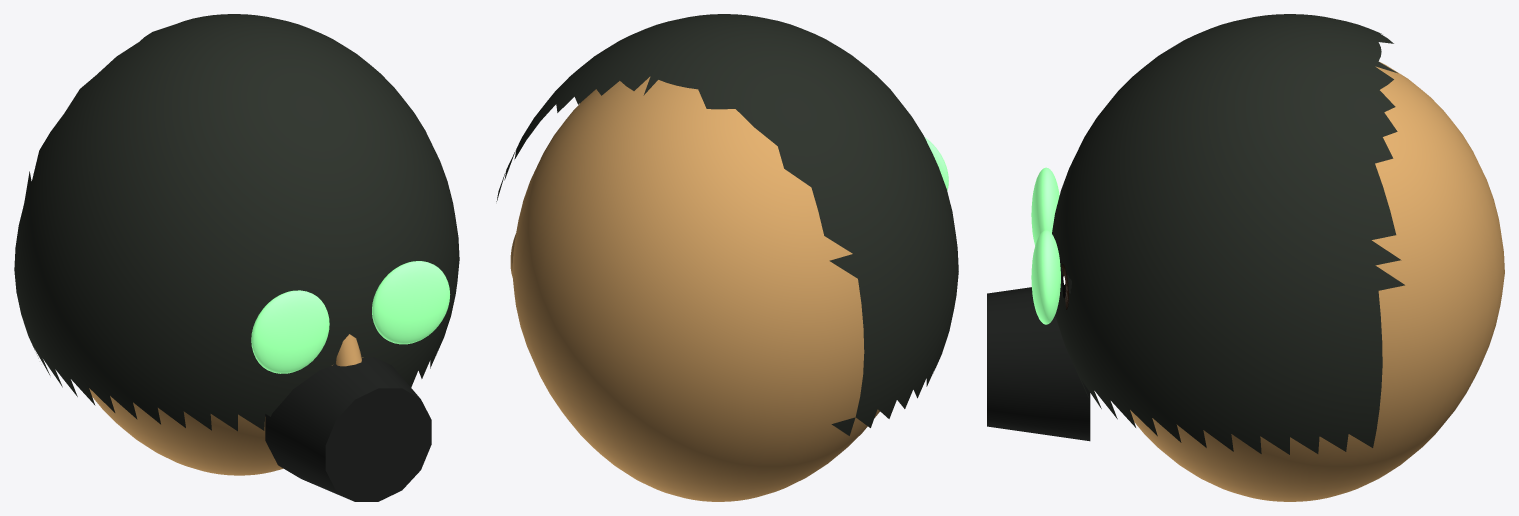
The model's file is 14-masque-a-gaz.glb.
3 views of the same model, side by side, from view 1: azimuth 30°, elevation 25°; view 2: azimuth 150°, elevation 25°; view 3: azimuth 270°, elevation 25° (orthographic). The views are drawn at different scales.
Size of the model in its own units: 0.3195 by 0.339 by 0.3505.
12 materials, 1 textured.
